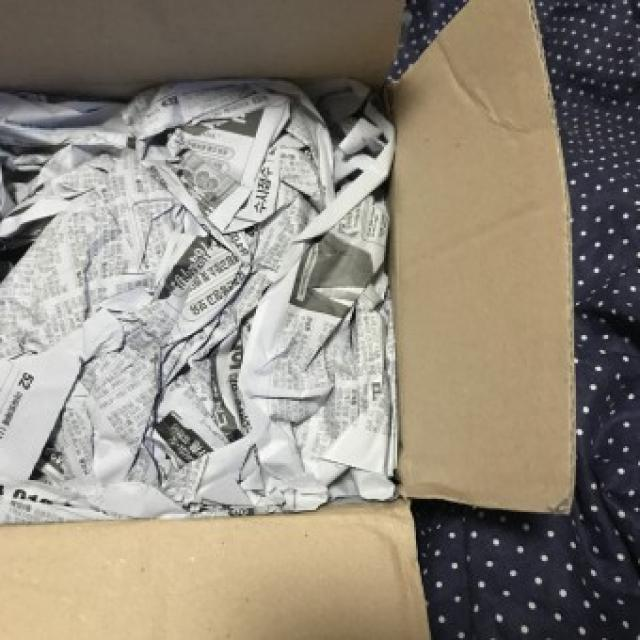Newspaper: (4, 93, 380, 498)
